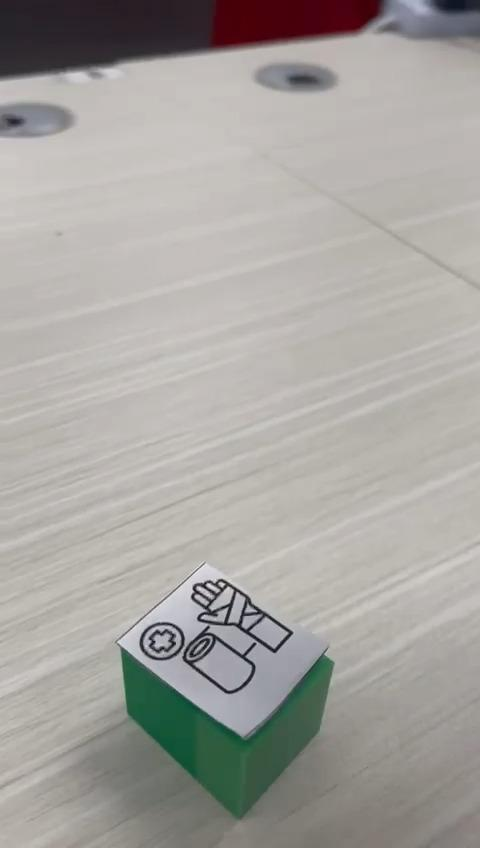Bandages: (115, 562, 334, 818)
